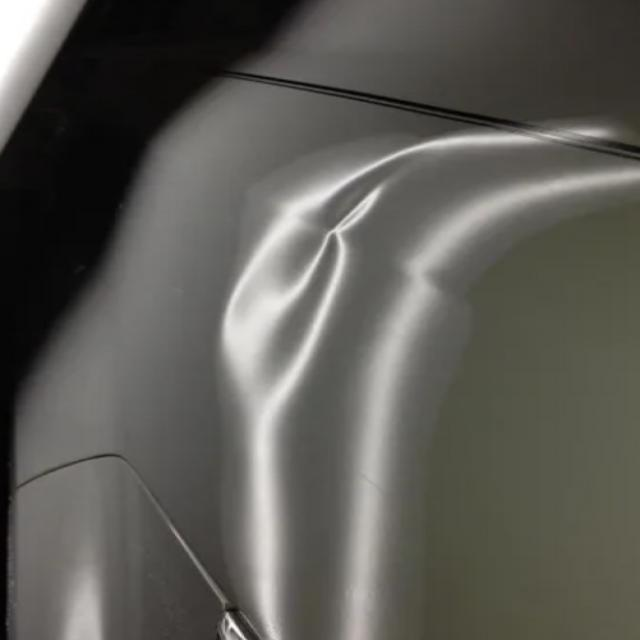dents: (231, 127, 471, 400)
